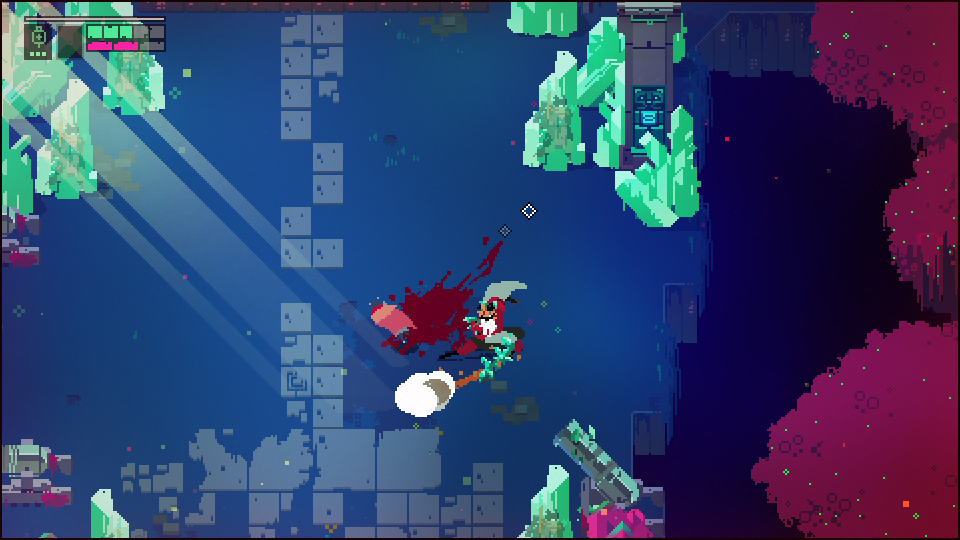hanged_man: (457, 276, 525, 381)
player: (368, 299, 418, 346)
